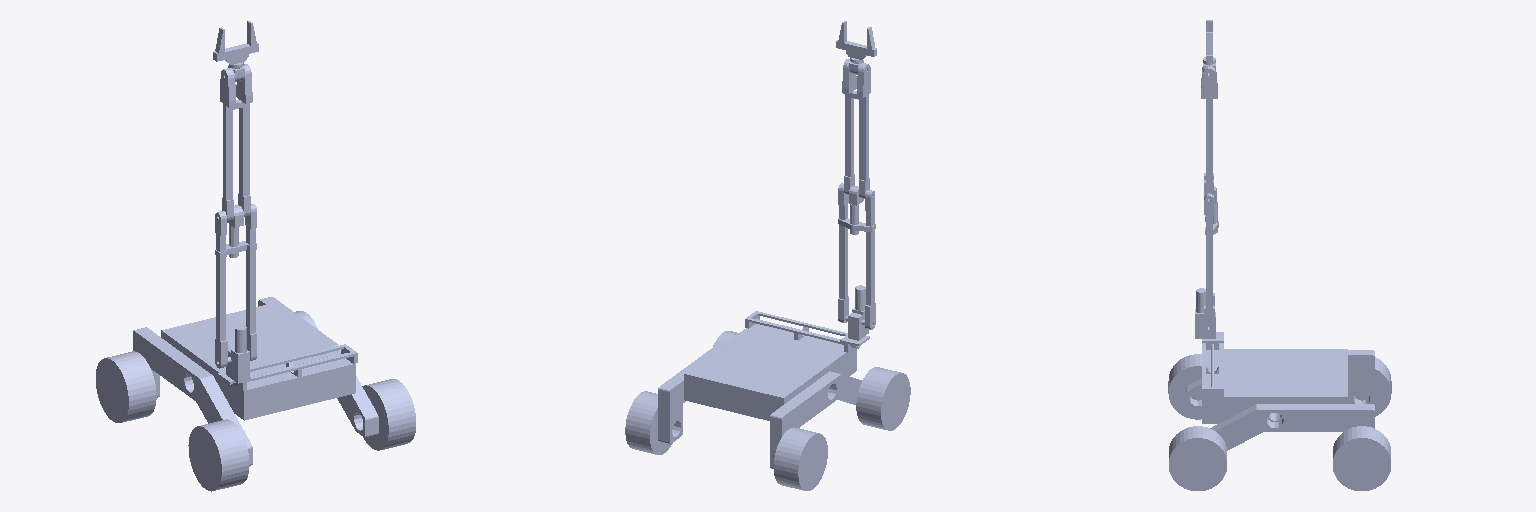
URDF robot description (rover):
<?xml version="1.0" encoding="utf-8"?>
<!-- This URDF was automatically created by SolidWorks to URDF Exporter! Originally created by [author] ([email redacted]) 
     Commit Version: 1.6.0-4-g7f85cfe  Build Version: 1.6.7995.38578
     For more information, please see http://wiki.ros.org/sw_urdf_exporter -->


<robot name="rover">
  <link name="base_link">
    <inertial>
      <origin xyz="0.112849924193879 -0.232793382157193 0.183076177862911" rpy="0 0 0" />
      <mass value="45.6227535447207" />
      <inertia ixx="1.84588066123249" ixy="1.04398822934646E-09" ixz="-2.19695722124988E-08" iyy="1.12675188376899" iyz="-5.73876173682645E-05" izz="2.83493149680154" />
    </inertial>
    <visual>
      <origin xyz="0 0 0" rpy="0 0 0" />
      <geometry>
        <mesh filename="package://rover_sim/meshes/base_link.STL" />
      </geometry>
      <material name="">
        <color rgba="0.792156862745098 0.819607843137255 0.933333333333333 1" />
      </material>
    </visual>
    <collision>
      <origin xyz="0 0 0" rpy="0 0 0" />
      <geometry>
        <mesh filename="package://rover_sim/meshes/base_link.STL" />
      </geometry>
    </collision>
  </link>

  <link name="ROCKER_L">
    <inertial>
      <origin xyz="0.0576803895536336 0.0340847304368007 0.031349999159246" rpy="0 0 0" />
      <mass value="6.7188177795508" />
      <inertia ixx="0.0336800630880808" ixy="-0.0365712848373038" ixz="1.472561846937E-09" iyy="0.459728619591422" iyz="7.0337085870288E-10" izz="0.489006412488076" />
    </inertial>
    <visual>
      <origin xyz="0 0 0" rpy="0 0 0" />
      <geometry>
        <mesh filename="package://rover_sim/meshes/ROCKER_L.STL" />
      </geometry>
      <material name="">
        <color rgba="0.792156862745098 0.819607843137255 0.933333333333333 1" />
      </material>
    </visual>
    <collision>
      <origin xyz="0 0 0" rpy="0 0 0" />
      <geometry>
        <mesh filename="package://rover_sim/meshes/ROCKER_L.STL" />
      </geometry>
    </collision>
  </link>

  <joint name="ROCKER_L_JOINT" type="revolute">
    <origin xyz="0.3766 -0.20681 0.078821" rpy="1.5708 0 1.5708" />
    <parent link="base_link" />
    <child link="ROCKER_L" />
    <axis xyz="0 0 1" />
    <limit lower="-0.35" upper="0.35" effort="0" velocity="0" />
  </joint>

  <link name="WHEEL_FL">
    <inertial>
      <origin xyz="9.42478317611517E-11 2.81360871927372E-09 -0.0649999999999999" rpy="0 0 0" />
      <mass value="7.55389670370359" />
      <inertia ixx="0.045567622882308" ixy="1.52458161818203E-18" ixz="-3.52208858329878E-11" iyy="0.045567622882308" iyz="-1.05145916727233E-09" izz="0.0698584367158508" />
    </inertial>
    <visual>
      <origin xyz="0 0 0" rpy="0 0 0" />
      <geometry>
        <mesh filename="package://rover_sim/meshes/WHEEL_FL.STL" />
      </geometry>
      <material name="">
        <color rgba="0.792156862745098 0.819607843137255 0.933333333333333 1" />
      </material>
    </visual>
    <collision>
      <origin xyz="0 0 0" rpy="0 0 0" />
      <geometry>
        <mesh filename="package://rover_sim/meshes/WHEEL_FL.STL" />
      </geometry>
    </collision>
  </link>

  <joint name="WHEEL_FL_JOINT" type="revolute">
    <origin xyz="-0.37995 -0.082166 0.1927" rpy="0 0 3.1416" />
    <parent link="ROCKER_L" />
    <child link="WHEEL_FL" />
    <axis xyz="0 0 -1" />
    <limit lower="-9999" upper="9999" effort="0" velocity="20" />
  </joint>

  <link name="WHEEL_RL">
    <inertial>
      <origin xyz="9.42478872723029E-11 2.8136087197074E-09 -0.0650000000000001" rpy="0 0 0" />
      <mass value="7.55389670370359" />
      <inertia ixx="0.045567622882308" ixy="1.52458158197648E-18" ixz="-3.52208867726297E-11" iyy="0.045567622882308" iyz="-1.05145916727233E-09" izz="0.0698584367158508" />
    </inertial>
    <visual>
      <origin xyz="0 0 0" rpy="0 0 0" />
      <geometry>
        <mesh filename="package://rover_sim/meshes/WHEEL_RL.STL" />
      </geometry>
      <material name="">
        <color rgba="0.792156862745098 0.819607843137255 0.933333333333333 1" />
      </material>
    </visual>
    <collision>
      <origin xyz="0 0 0" rpy="0 0 0" />
      <geometry>
        <mesh filename="package://rover_sim/meshes/WHEEL_RL.STL" />
      </geometry>
    </collision>
  </link>

  <joint name="WHEEL_RL_JOINT" type="revolute">
    <origin xyz="0.375460091610939 -0.0821661046351226 0.192700001280739" rpy="0 0 3.14159265358979" />
    <parent link="ROCKER_L" />
    <child link="WHEEL_RL" />
    <axis xyz="0 0 -0.999999999999999" />
    <limit lower="0" upper="0" effort="0" velocity="20" />
  </joint>

  <link name="ROCKER_R">
    <inertial>
      <origin xyz="0.0576803900595149 0.0340847288843424 0.0313499999163654" rpy="0 0 0" />
      <mass value="6.71881777955079" />
      <inertia ixx="0.0336800620025095" ixy="-0.0365712785139467" ixz="6.60208857696379E-10" iyy="0.459728620676994" iyz="5.30271193571037E-11" izz="0.489006412488076" />
    </inertial>
    <visual>
      <origin xyz="0 0 0" rpy="0 0 0" />
      <geometry>
        <mesh filename="package://rover_sim/meshes/ROCKER_R.STL" />
      </geometry>
      <material name="">
        <color rgba="0.792156862745098 0.819607843137255 0.933333333333333 1" />
      </material>
    </visual>
    <collision>
      <origin xyz="0 0 0" rpy="0 0 0" />
      <geometry>
        <mesh filename="package://rover_sim/meshes/ROCKER_R.STL" />
      </geometry>
    </collision>
  </link>

  <joint name="ROCKER_R_JOINT" type="revolute">
    <origin xyz="-0.213600073527999 -0.206807226568189 0.0788212705195118" rpy="1.57079630458203 0 1.5707963267949" />
    <parent link="base_link" />
    <child link="ROCKER_R" />
    <axis xyz="0 0 1" />
    <limit lower="-0.35" upper="0.35" effort="0" velocity="0" />
  </joint>

  <link name="WHEEL_FR">
    <inertial>
      <origin xyz="9.42478317611517E-11 2.81360889231239E-09 -0.0649999999999999" rpy="0 0 0" />
      <mass value="7.55389670370359" />
      <inertia ixx="0.045567622882308" ixy="1.52458164381907E-18" ixz="-3.52208928881465E-11" iyy="0.045567622882308" iyz="-1.05145923201004E-09" izz="0.0698584367158508" />
    </inertial>
    <visual>
      <origin xyz="0 0 0" rpy="0 0 0" />
      <geometry>
        <mesh filename="package://rover_sim/meshes/WHEEL_FR.STL" />
      </geometry>
      <material name="">
        <color rgba="0.792156862745098 0.819607843137255 0.933333333333333 1" />
      </material>
    </visual>
    <collision>
      <origin xyz="0 0 0" rpy="0 0 0" />
      <geometry>
        <mesh filename="package://rover_sim/meshes/WHEEL_FR.STL" />
      </geometry>
    </collision>
  </link>

  <joint name="WHEEL_FR_JOINT" type="revolute">
    <origin xyz="-0.379949909887969 -0.0821661155180505 0" rpy="0 0 3.14159263874792" />
    <parent link="ROCKER_R" />
    <child link="WHEEL_FR" />
    <axis xyz="0 0 -0.999999999999999" />
    <limit lower="999" upper="100" effort="0" velocity="20" />
  </joint>

  <link name="WHEEL_RR">
    <inertial>
      <origin xyz="9.42479150278785E-11 2.8136088918787E-09 -0.0649999999999999" rpy="0 0 0" />
      <mass value="7.55389670370359" />
      <inertia ixx="0.045567622882308" ixy="1.52458164726758E-18" ixz="-3.52208937162165E-11" iyy="0.045567622882308" iyz="-1.05145923201005E-09" izz="0.0698584367158508" />
    </inertial>
    <visual>
      <origin xyz="0 0 0" rpy="0 0 0" />
      <geometry>
        <mesh filename="package://rover_sim/meshes/WHEEL_RR.STL" />
      </geometry>
      <material name="">
        <color rgba="0.792156862745098 0.819607843137255 0.933333333333333 1" />
      </material>
    </visual>
    <collision>
      <origin xyz="0 0 0" rpy="0 0 0" />
      <geometry>
        <mesh filename="package://rover_sim/meshes/WHEEL_RR.STL" />
      </geometry>
    </collision>
  </link>

  <joint name="WHEEL_RR_JOINT" type="revolute">
    <origin xyz="0.375460090112031 -0.082166114488072 0" rpy="0 0 3.14159263874792" />
    <parent link="ROCKER_R" />
    <child link="WHEEL_RR" />
    <axis xyz="0 0 -0.999999999999999" />
    <limit lower="100" upper="100" effort="0" velocity="20" />
  </joint>

  <link name="ARM_BASE">
    <inertial>
      <origin xyz="1.0227916291683E-09 -0.047089419372485 -0.0160000007631" rpy="0 0 0" />
      <mass value="0.512622788118868" />
      <inertia ixx="0.000613229200662848" ixy="-4.02085115480361E-10" ixz="2.55936278825549E-11" iyy="0.0187146793041696" iyz="7.29712112038013E-12" izz="0.0182643881537346" />
    </inertial>
    <visual>
      <origin xyz="0 0 0" rpy="0 0 0" />
      <geometry>
        <mesh filename="package://rover_sim/meshes/ARM_BASE.STL" />
      </geometry>
      <material name="">
        <color rgba="0.792156862745098 0.819607843137255 0.933333333333333 1" />
      </material>
    </visual>
    <collision>
      <origin xyz="0 0 0" rpy="0 0 0" />
      <geometry>
        <mesh filename="package://rover_sim/meshes/ARM_BASE.STL" />
      </geometry>
    </collision>
  </link>
  <joint name="ARM_BASE_JOINT" type="fixed">
    <origin xyz="0.11285 -0.53465 0.32484" rpy="1.5708 0 0" />
    <parent link="base_link" />
    <child link="ARM_BASE" />
    <axis xyz="0 0 0" />
  </joint>
  <link name="J0">
    <inertial>
      <origin xyz="7.20420056943283E-10 -0.0335267651815728 -0.0167627980793654" rpy="0 0 0" />
      <mass value="0.14826651920567" />
      <inertia ixx="0.00011591934555788" ixy="-1.48004342718293E-12" ixz="-2.71691293611722E-14" iyy="0.000182606021235804" iyz="8.68222887030361E-07" izz="0.00011048235881137" />
    </inertial>
    <visual>
      <origin xyz="0 0 0" rpy="0 0 0" />
      <geometry>
        <mesh filename="package://rover_sim/meshes/J0.STL" />
      </geometry>
      <material name="">
        <color rgba="0.792156862745098 0.819607843137255 0.933333333333333 1" />
      </material>
    </visual>
    <collision>
      <origin xyz="0 0 0" rpy="0 0 0" />
      <geometry>
        <mesh filename="package://rover_sim/meshes/J0.STL" />
      </geometry>
    </collision>
  </link>
  <joint name="J0_JOINT" type="prismatic">
    <origin xyz="-0.28085 0 0" rpy="0 0 0" />
    <parent link="ARM_BASE" />
    <child link="J0" />
    <axis xyz="1 0 0" />
    <limit lower="-3.14" upper="3.14" effort="300" velocity="3" />
  </joint>
  <link name="J1">
    <inertial>
      <origin xyz="1.54442730826432E-09 0.0695285258445674 -0.0219577889830469" rpy="0 0 0" />
      <mass value="0.874667906519395" />
      <inertia ixx="0.00387731017393926" ixy="-6.75046270873239E-11" ixz="8.91524305511174E-12" iyy="0.000838322154710345" iyz="0.000401355383634096" izz="0.00350170489650648" />
    </inertial>
    <visual>
      <origin xyz="0 0 0" rpy="0 0 0" />
      <geometry>
        <mesh filename="package://rover_sim/meshes/J1.STL" />
      </geometry>
      <material name="">
        <color rgba="0.792156862745098 0.819607843137255 0.933333333333333 1" />
      </material>
    </visual>
    <collision>
      <origin xyz="0 0 0" rpy="0 0 0" />
      <geometry>
        <mesh filename="package://rover_sim/meshes/J1.STL" />
      </geometry>
    </collision>
  </link>
  <joint name="J1_JOINT" type="revolute">
    <origin xyz="0 0 0" rpy="3.1416 0 3.1416" />
    <parent link="J0" />
    <child link="J1" />
    <axis xyz="0 1 0" />
    <limit lower="-3.14" upper="3.14" effort="300" velocity="3" />
  </joint>
  <link name="J2">
    <inertial>
      <origin xyz="8.29484528286351E-09 0.373425225011446 0.00316370877405714" rpy="0 0 0" />
      <mass value="1.96312360277631" />
      <inertia ixx="0.0939243898226502" ixy="-1.91026906419288E-09" ixz="-2.216942039714E-11" iyy="0.00792608230900789" iyz="-0.000998053508320814" izz="0.10114520957233" />
    </inertial>
    <visual>
      <origin xyz="0 0 0" rpy="0 0 0" />
      <geometry>
        <mesh filename="package://rover_sim/meshes/J2.STL" />
      </geometry>
      <material name="">
        <color rgba="0.792156862745098 0.819607843137255 0.933333333333333 1" />
      </material>
    </visual>
    <collision>
      <origin xyz="0 0 0" rpy="0 0 0" />
      <geometry>
        <mesh filename="package://rover_sim/meshes/J2.STL" />
      </geometry>
    </collision>
  </link>
  <joint name="J2_JOINT" type="revolute">
    <origin xyz="0 0.06065 0" rpy="0 0 0" />
    <parent link="J1" />
    <child link="J2" />
    <axis xyz="1 0 0" />
    <limit lower="-3.14" upper="3.14" effort="300" velocity="3" />
  </joint>
  <link name="J3">
    <inertial>
      <origin xyz="7.95736385117429E-09 0.358232170644333 -3.55622009617917E-09" rpy="0 0 0" />
      <mass value="1.8167140049107" />
      <inertia ixx="0.0780464097697694" ixy="-1.66300818957583E-09" ixz="8.77220086069735E-17" iyy="0.00317952641638863" iyz="7.67361051270791E-10" izz="0.0804788537753683" />
    </inertial>
    <visual>
      <origin xyz="0 0 0" rpy="0 0 0" />
      <geometry>
        <mesh filename="package://rover_sim/meshes/J3.STL" />
      </geometry>
      <material name="">
        <color rgba="0.792156862745098 0.819607843137255 0.933333333333333 1" />
      </material>
    </visual>
    <collision>
      <origin xyz="0 0 0" rpy="0 0 0" />
      <geometry>
        <mesh filename="package://rover_sim/meshes/J3.STL" />
      </geometry>
    </collision>
  </link>
  <joint name="J3_JOINT" type="revolute">
    <origin xyz="0 0.65 0" rpy="0 0 0" />
    <parent link="J2" />
    <child link="J3" />
    <axis xyz="1 0 0" />
    <limit lower="-3.14" upper="3.14" effort="300" velocity="3" />
  </joint>
  <link name="J4">
    <inertial>
      <origin xyz="-5.95085092314207E-11 0.00267901156669015 2.65949484656858E-11" rpy="0 0 0" />
      <mass value="0.132606093266041" />
      <inertia ixx="8.20742317595174E-05" ixy="3.9324518254009E-13" ixz="-5.93902901324665E-19" iyy="6.43707448964586E-05" iyz="3.00104503713024E-14" izz="6.13476605537803E-05" />
    </inertial>
    <visual>
      <origin xyz="0 0 0" rpy="0 0 0" />
      <geometry>
        <mesh filename="package://rover_sim/meshes/J4.STL" />
      </geometry>
      <material name="">
        <color rgba="0.792156862745098 0.819607843137255 0.933333333333333 1" />
      </material>
    </visual>
    <collision>
      <origin xyz="0 0 0" rpy="0 0 0" />
      <geometry>
        <mesh filename="package://rover_sim/meshes/J4.STL" />
      </geometry>
    </collision>
  </link>
  <joint name="J4_JOINT" type="revolute">
    <origin xyz="0 0.625 0" rpy="3.1416 0 3.1416" />
    <parent link="J3" />
    <child link="J4" />
    <axis xyz="1 0 0" />
    <limit lower="-3.14" upper="3.14" effort="300" velocity="3" />
  </joint>
  <link name="J5">
    <inertial>
      <origin xyz="-1.2813470839923E-09 0.0576849015806391 5.72645930674298E-10" rpy="0 0 0" />
      <mass value="0.458653210732393" />
      <inertia ixx="0.000822703247771272" ixy="-1.27841341164444E-11" ixz="1.15225086065982E-17" iyy="0.0013982316285299" iyz="-7.32475878104359E-12" izz="0.00213608364777127" />
    </inertial>
    <visual>
      <origin xyz="0 0 0" rpy="0 0 0" />
      <geometry>
        <mesh filename="package://rover_sim/meshes/J5.STL" />
      </geometry>
      <material name="">
        <color rgba="0.792156862745098 0.819607843137255 0.933333333333333 1" />
      </material>
    </visual>
    <collision>
      <origin xyz="0 0 0" rpy="0 0 0" />
      <geometry>
        <mesh filename="package://rover_sim/meshes/J5.STL" />
      </geometry>
    </collision>
  </link>
  <joint name="J5_JOINT" type="revolute">
    <origin xyz="0 0.0455 0" rpy="0 0 0" />
    <parent link="J4" />
    <child link="J5" />
    <axis xyz="0 1 0" />
    <limit lower="-3.14" upper="3.14" effort="300" velocity="3" />
  </joint>

  <plugin name="JointStatePublisher" filename="libJointStatePublisher.so"/>

</robot>

--- What the picture shows (computed from the rendered views, not written in the file) ---
3 views of the same robot in one strip: view 1: azimuth 30°, elevation 25°; view 2: azimuth 150°, elevation 25°; view 3: azimuth 270°, elevation 25° (orthographic).
Robot: rover — 14 links, 13 joints (11 revolute, 1 prismatic, 1 fixed); root link base_link; default pose: all joints at 0 but 2 set to mid-range because 0 is outside their limits (WHEEL_FR_JOINT = 550, WHEEL_RR_JOINT = 100).
Visible links, largest first — view 1: base_link, ROCKER_R, J2, WHEEL_RR, WHEEL_FR, J3, WHEEL_FL, ROCKER_L, ARM_BASE, J5, J1; view 2: base_link, J2, ROCKER_R, WHEEL_FR, WHEEL_RR, J3, WHEEL_RL, ROCKER_L, ARM_BASE, J5, J1; view 3: base_link, ROCKER_L, WHEEL_FL, WHEEL_RL, ROCKER_R, WHEEL_FR, J2, J3, WHEEL_RR, ARM_BASE, J1.
Boxes of the visible links, x1,y1,x2,y2 form: base_link: [161, 303, 355, 420]; ROCKER_R: [133, 327, 252, 465]; J2: [215, 204, 256, 368]; WHEEL_RR: [96, 351, 156, 422]; WHEEL_FR: [188, 419, 249, 491]; J3: [220, 64, 252, 220]; WHEEL_FL: [362, 379, 415, 450]; ROCKER_L: [258, 297, 378, 437]; ARM_BASE: [236, 344, 357, 390]; J5: [213, 21, 258, 68]; J1: [226, 325, 249, 383]; base_link: [684, 324, 856, 420]; J2: [838, 183, 875, 329]; ROCKER_R: [770, 371, 861, 468]; WHEEL_FR: [856, 367, 910, 430]; WHEEL_RR: [774, 427, 827, 490]; J3: [842, 59, 870, 198]; WHEEL_RL: [625, 391, 672, 454]; ROCKER_L: [658, 344, 722, 443]; ARM_BASE: [745, 311, 852, 352]; J5: [836, 21, 876, 63]; J1: [845, 285, 868, 340]; base_link: [1202, 349, 1347, 423]; ROCKER_L: [1210, 404, 1374, 450]; WHEEL_FL: [1169, 426, 1226, 490]; WHEEL_RL: [1333, 426, 1390, 490]; ROCKER_R: [1186, 350, 1374, 408]; WHEEL_FR: [1168, 354, 1201, 419]; J2: [1204, 186, 1218, 332]; J3: [1201, 66, 1217, 196]; WHEEL_RR: [1348, 357, 1391, 416]; ARM_BASE: [1202, 343, 1223, 397]; J1: [1195, 288, 1215, 338].
Size in the robot's own frame: 0.9129 by 1.03 by 2.02 metres.
Meshes: 14 distinct files referenced, 14 mesh visuals loaded (14 binary STL).